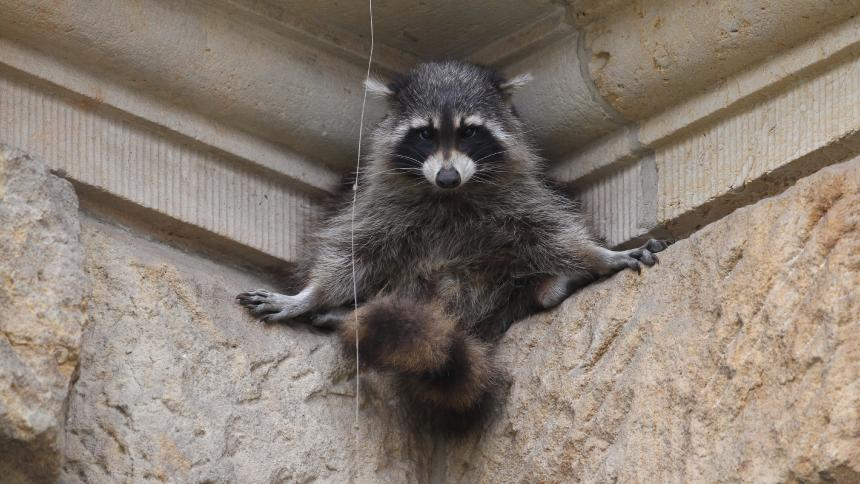raccoon: (219, 36, 696, 439)
